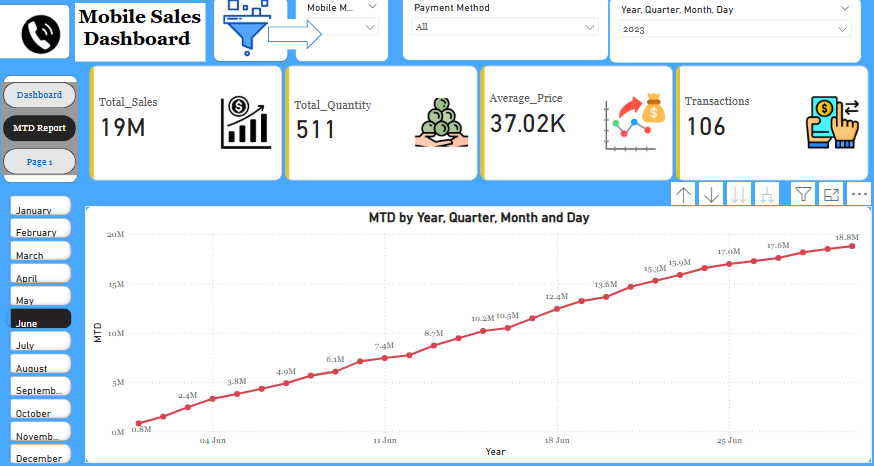

The page's visual inventory and layout, read from the dashboard file:
{"tool":"powerbi","page":{"name":"MTD Report","canvas":[1280,720],"ordinal":1},"visuals":[{"type":"shape","box":[0,56.7,106.7,78.3],"z":0},{"type":"image","box":[25.2,55.4,79,89],"z":1000},{"type":"shape","box":[11.8,157.9,105.8,152.9],"z":2000},{"type":"cardVisual","fields":{"Data":["Mobile_Sales_Data.Total_Sales","Mobile_Sales_Data.Total_Quantity","Mobile_Sales_Data.Average_Price","Mobile_Sales_Data.Transactions"]},"box":[128.3,138.3,1115,173.3],"z":3000},{"type":"slicer","fields":{"Values":["Mobile_Sales_Data.Mobile Model"]},"box":[425,43.3,133.3,95],"z":4000},{"type":"slicer","fields":{"Values":["Mobile_Sales_Data.Payment Method"]},"box":[576.7,43.3,293.3,93.3],"z":5000},{"type":"slicer","fields":{"Values":["Custom_Calendar.Date.Variation.Date Hierarchy.Year","Custom_Calendar.Date.Variation.Date Hierarchy.Quarter","Custom_Calendar.Date.Variation.Date Hierarchy.Month","Custom_Calendar.Date.Variation.Date Hierarchy.Day"]},"box":[870.1,47,357.8,94.1],"z":6000},{"type":"shape","box":[308.3,46.7,106.7,91.7],"z":7000},{"type":"image","box":[308.3,43.3,96.7,93.3],"z":8000},{"type":"shape","box":[386.7,78.3,76.7,43.3],"z":9000},{"type":"shape","box":[113.3,55,183.3,83.3],"z":10000},{"type":"textbox","box":[113.3,55,185,83.3],"z":11000},{"type":"lineChart","fields":{"Y":["Mobile_Sales_Data.MTD"],"Category":["Custom_Calendar.Date.Variation.Date Hierarchy.Year","Custom_Calendar.Date.Variation.Date Hierarchy.Quarter","Custom_Calendar.Date.Variation.Date Hierarchy.Month","Custom_Calendar.Date.Variation.Date Hierarchy.Day"]},"box":[127.7,342.7,1115.4,364.5],"z":12000},{"type":"advancedSlicerVisual","fields":{"Values":["Custom_Calendar.Date.Variation.Date Hierarchy.Month"]},"box":[11.8,323.6,102.5,396.4],"z":13000},{"type":"pageNavigator","box":[8.5,167.2,109.1,131.8],"z":14000}]}

Visuals, with their boxes on the page's 1280x720 design canvas (x1, y1, x2, y2). These are canvas units, not pixel positions in the 874x466 screenshot, which may show the page scaled, cropped or inside an application window:
shape: l=0, t=57, r=107, b=135
image: l=25, t=55, r=104, b=144
shape: l=12, t=158, r=118, b=311
cardVisual - Mobile_Sales_Data.Total_Sales x Mobile_Sales_Data.Total_Quantity: l=128, t=138, r=1243, b=312
slicer - Mobile_Sales_Data.Mobile Model: l=425, t=43, r=558, b=138
slicer - Mobile_Sales_Data.Payment Method: l=577, t=43, r=870, b=137
slicer - Custom_Calendar.Date.Variation.Date Hierarchy.Year x Custom_Calendar.Date.Variation.Date Hierarchy.Quarter: l=870, t=47, r=1228, b=141
shape: l=308, t=47, r=415, b=138
image: l=308, t=43, r=405, b=137
shape: l=387, t=78, r=463, b=122
shape: l=113, t=55, r=297, b=138
textbox: l=113, t=55, r=298, b=138
lineChart - Mobile_Sales_Data.MTD x Custom_Calendar.Date.Variation.Date Hierarchy.Year: l=128, t=343, r=1243, b=707
advancedSlicerVisual - Custom_Calendar.Date.Variation.Date Hierarchy.Month: l=12, t=324, r=114, b=720
pageNavigator: l=8, t=167, r=118, b=299
